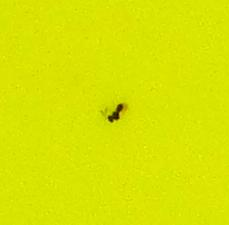Hymenoptera: (100, 100, 129, 125)
